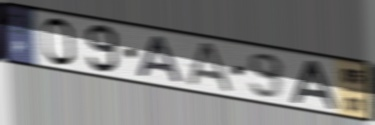0: (41, 16, 77, 67)
9: (247, 52, 286, 100), (85, 24, 120, 74)
A: (182, 41, 236, 95), (289, 59, 340, 112), (136, 34, 186, 86)
